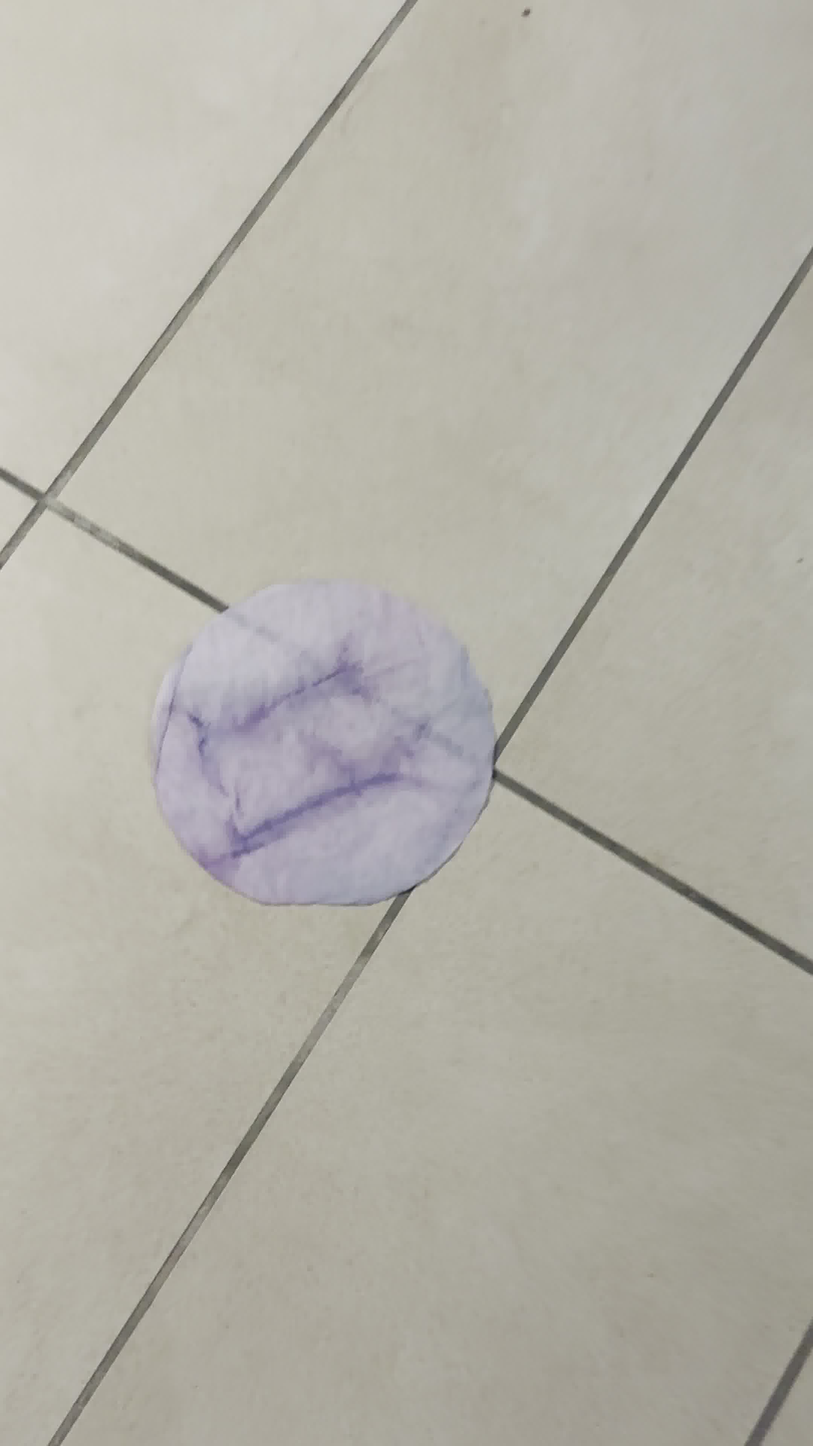Target: (142, 578, 497, 908)
